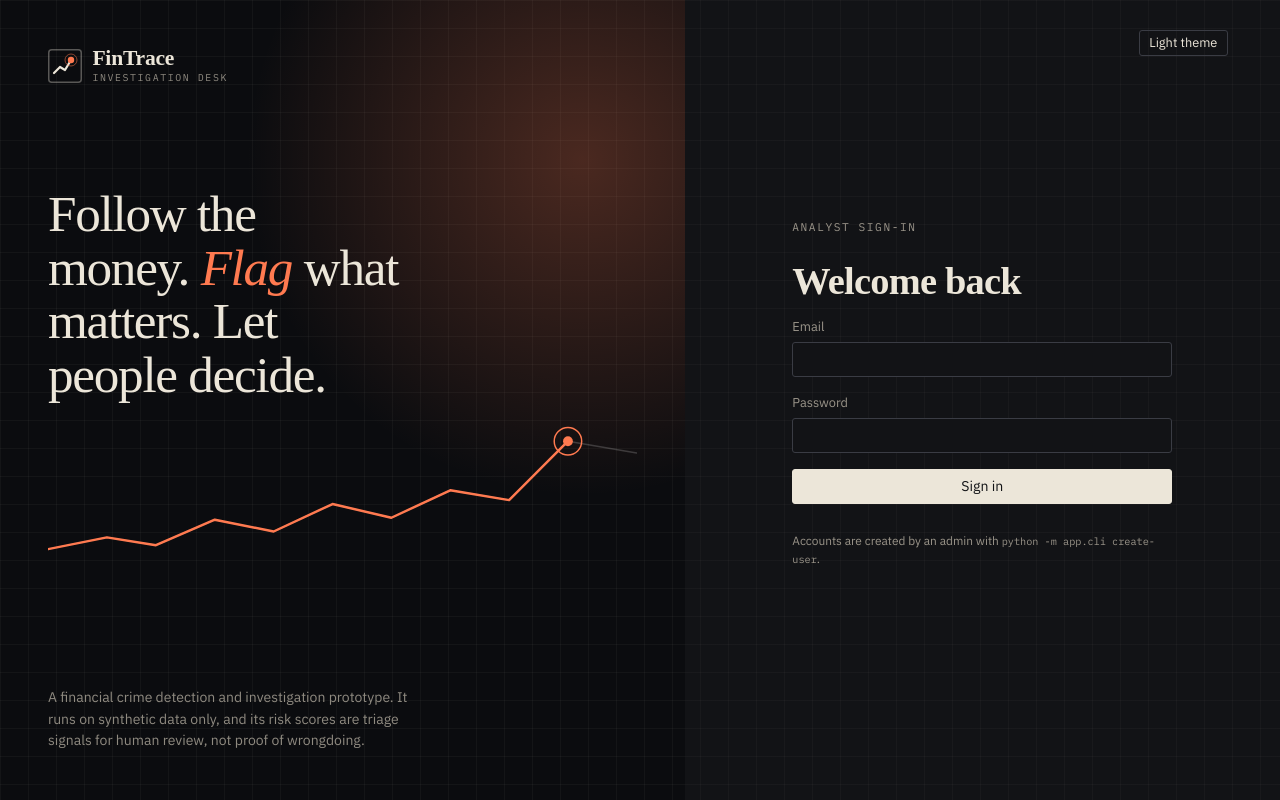
Test: login › redirects to login and shows the API's message on bad credentials
Type "ana@example.com" into the field labelled "Email".
click(982, 359); type("ana@example.com")  # box x1=792 y1=342 x2=1172 y2=377
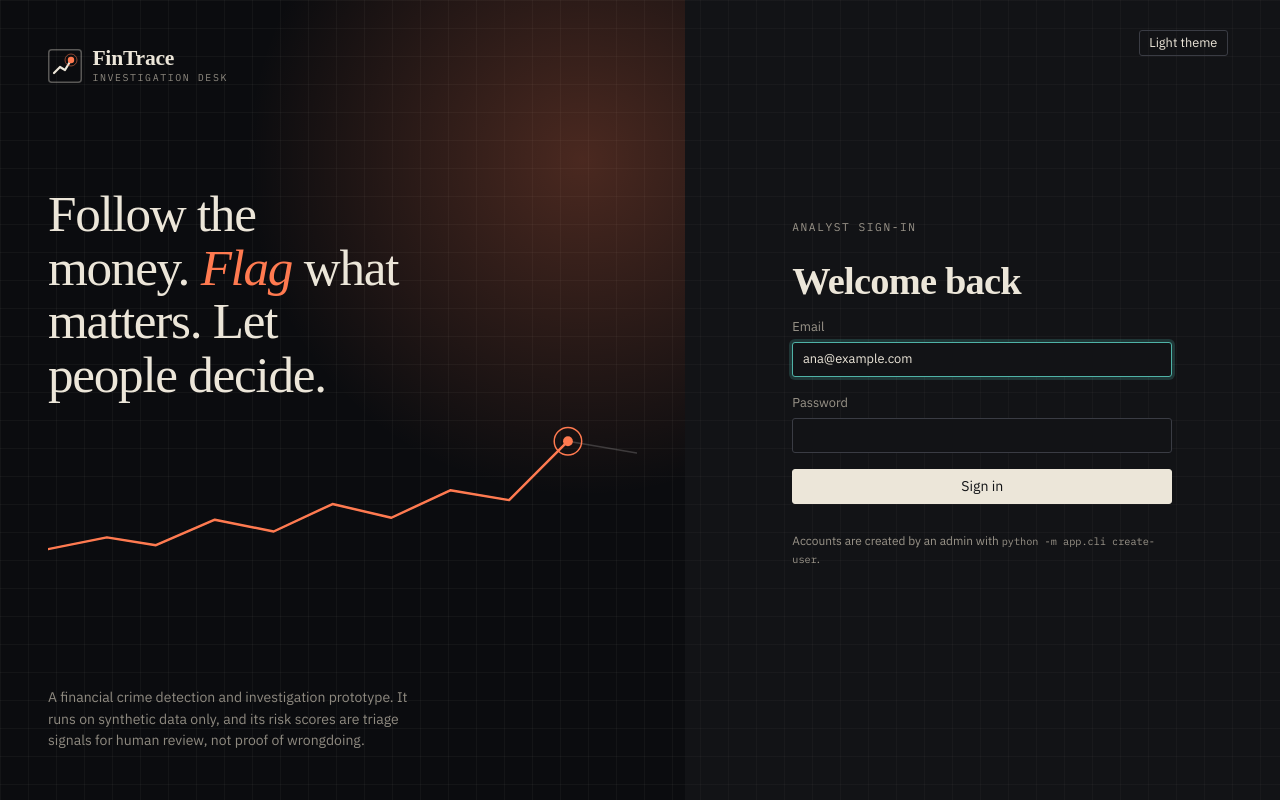
Type "wrong-password-123" into the password field labelled "Password".
click(982, 435); type("wrong-password-123")  # box x1=792 y1=418 x2=1172 y2=453
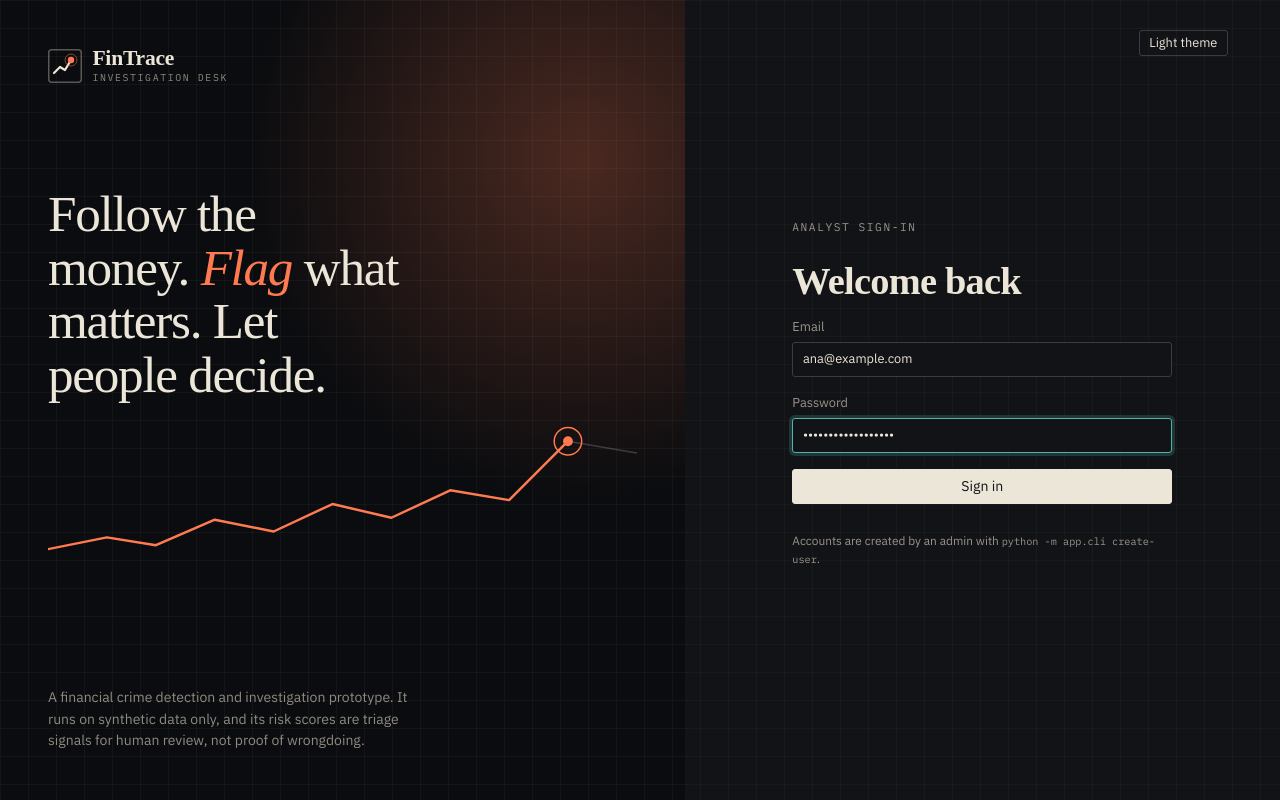
Click the button "Sign in".
click(982, 486)  # box x1=792 y1=469 x2=1172 y2=504
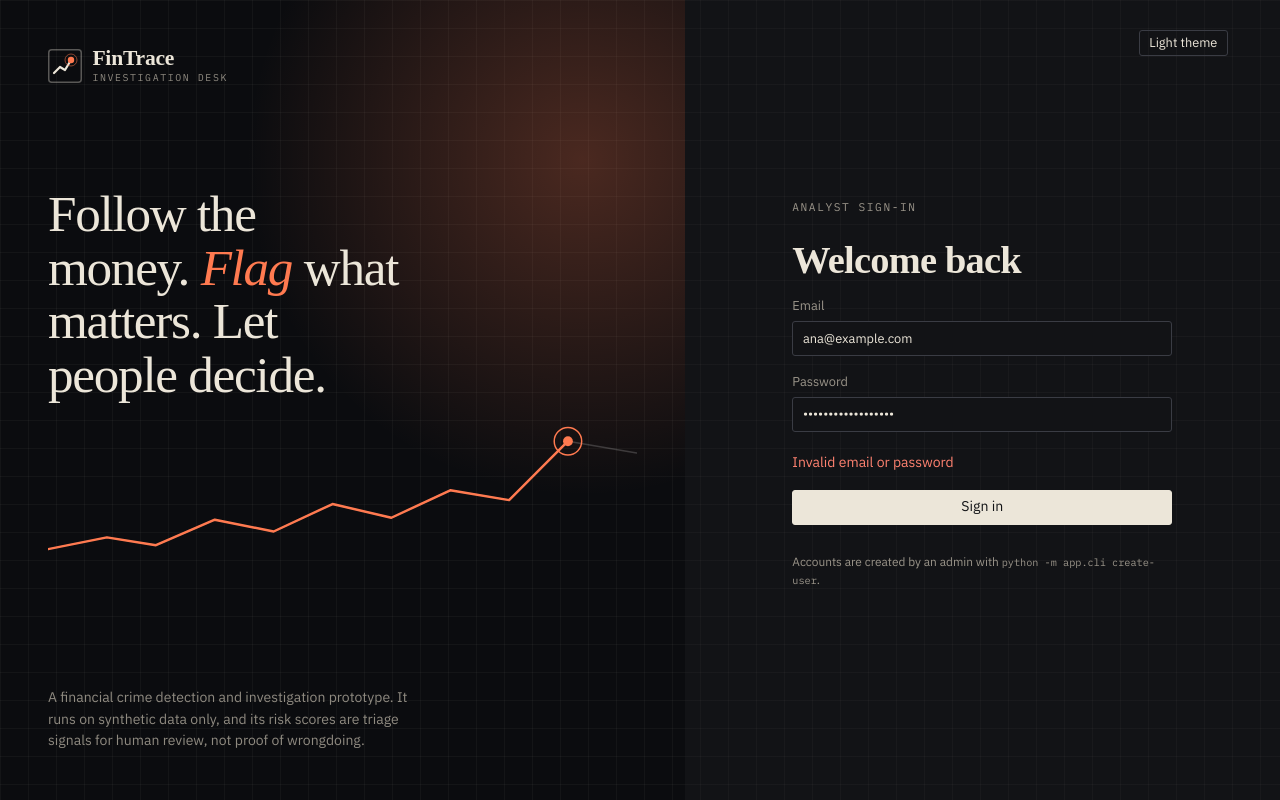
Now the message reads "Invalid email or password", box x1=792 y1=453 x2=954 y2=471
